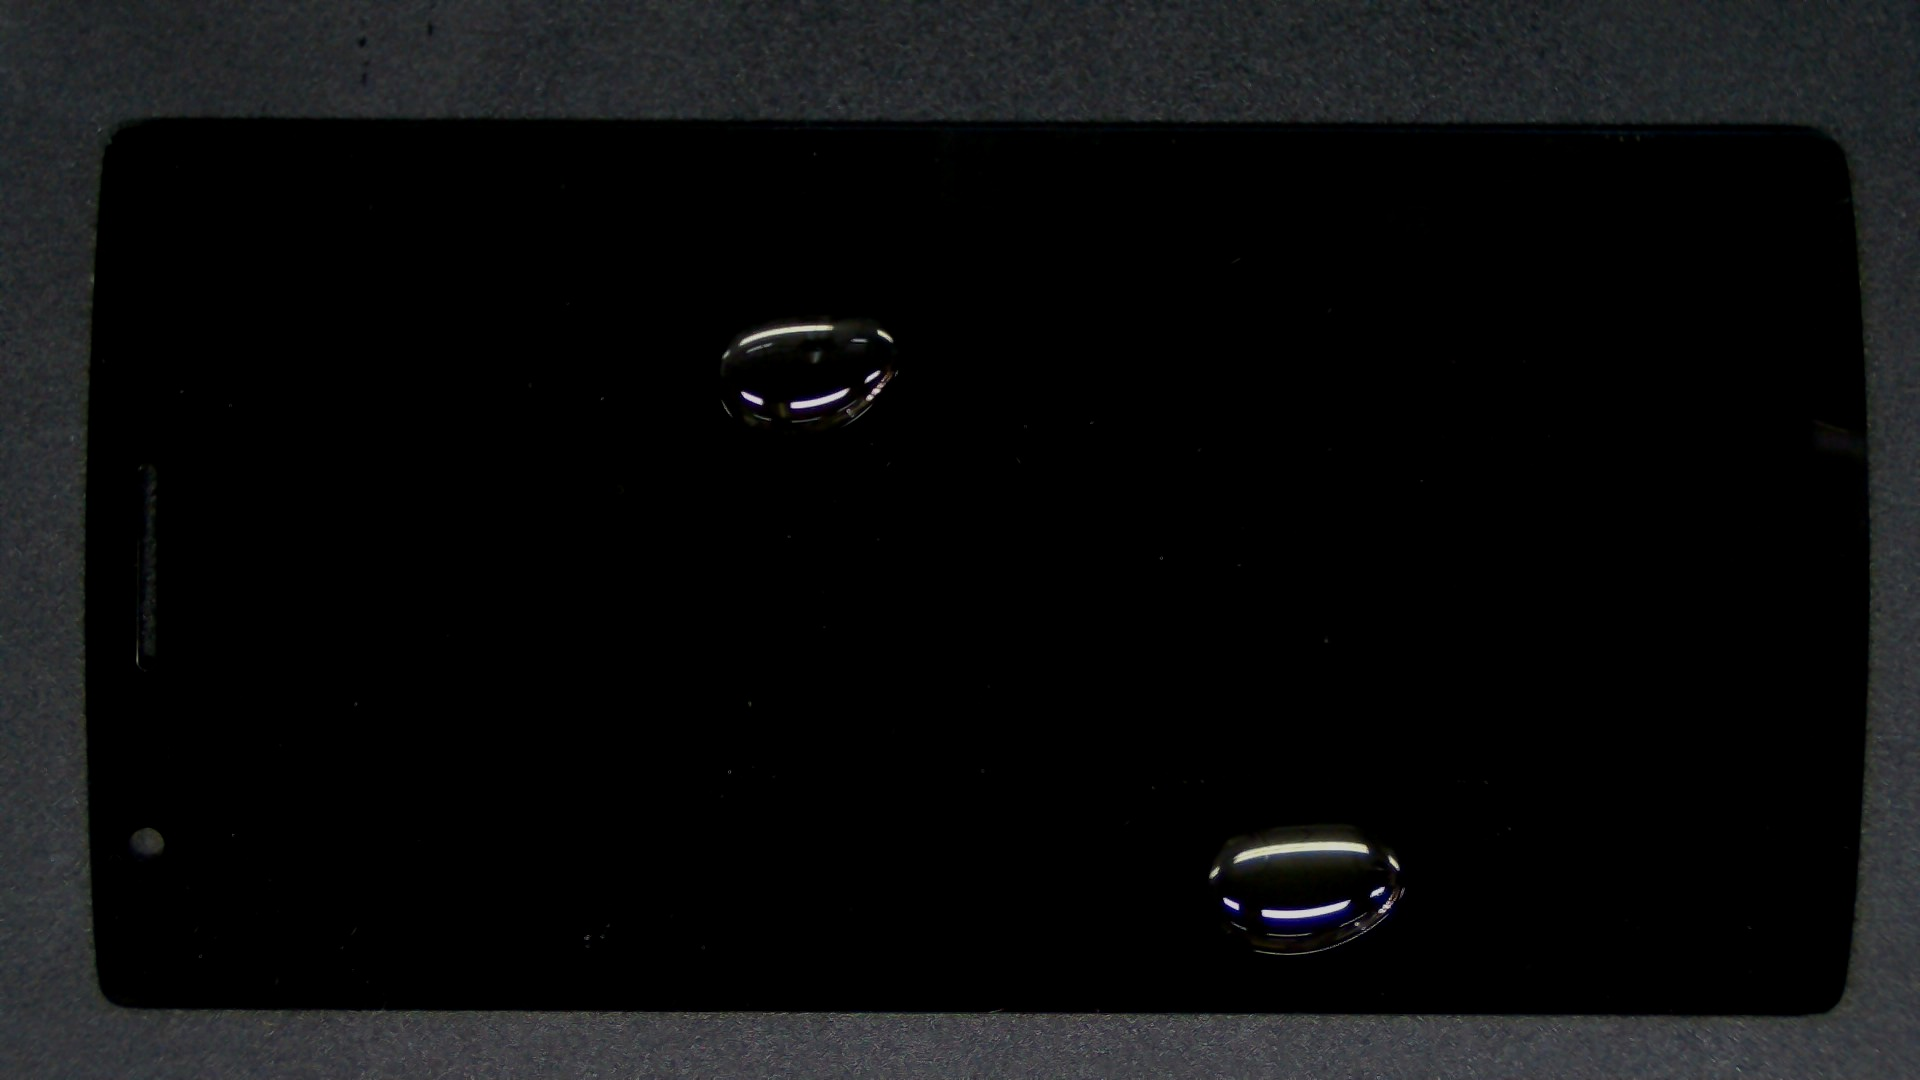oil: (646, 411, 1920, 1080), (401, 157, 1203, 472)
